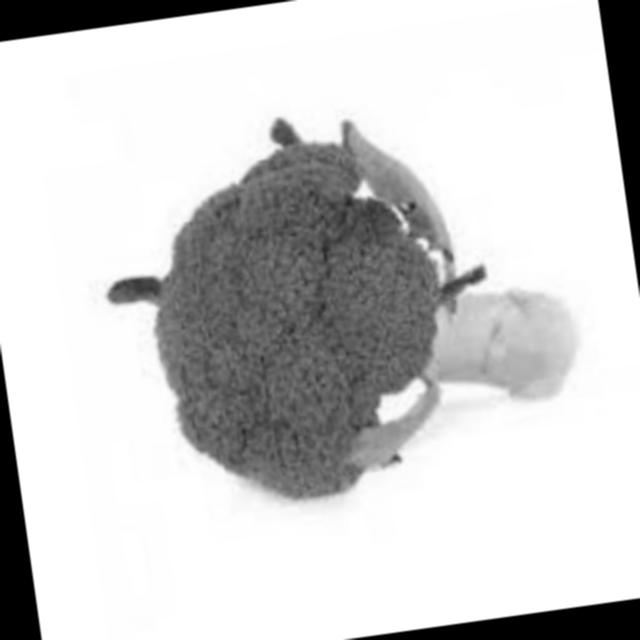broccoli: (92, 69, 622, 514)
